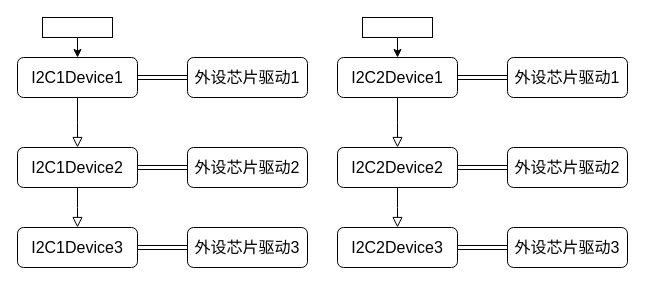
The diagram is 645 pixels wide and 285 high, and some of its shapes have lost their labels. The box of each missing label's shape, as (x1, y1, x2, y2) in pixels:
bus：I2C1: (42, 16, 112, 38)
bus：I2C2: (362, 16, 432, 38)
